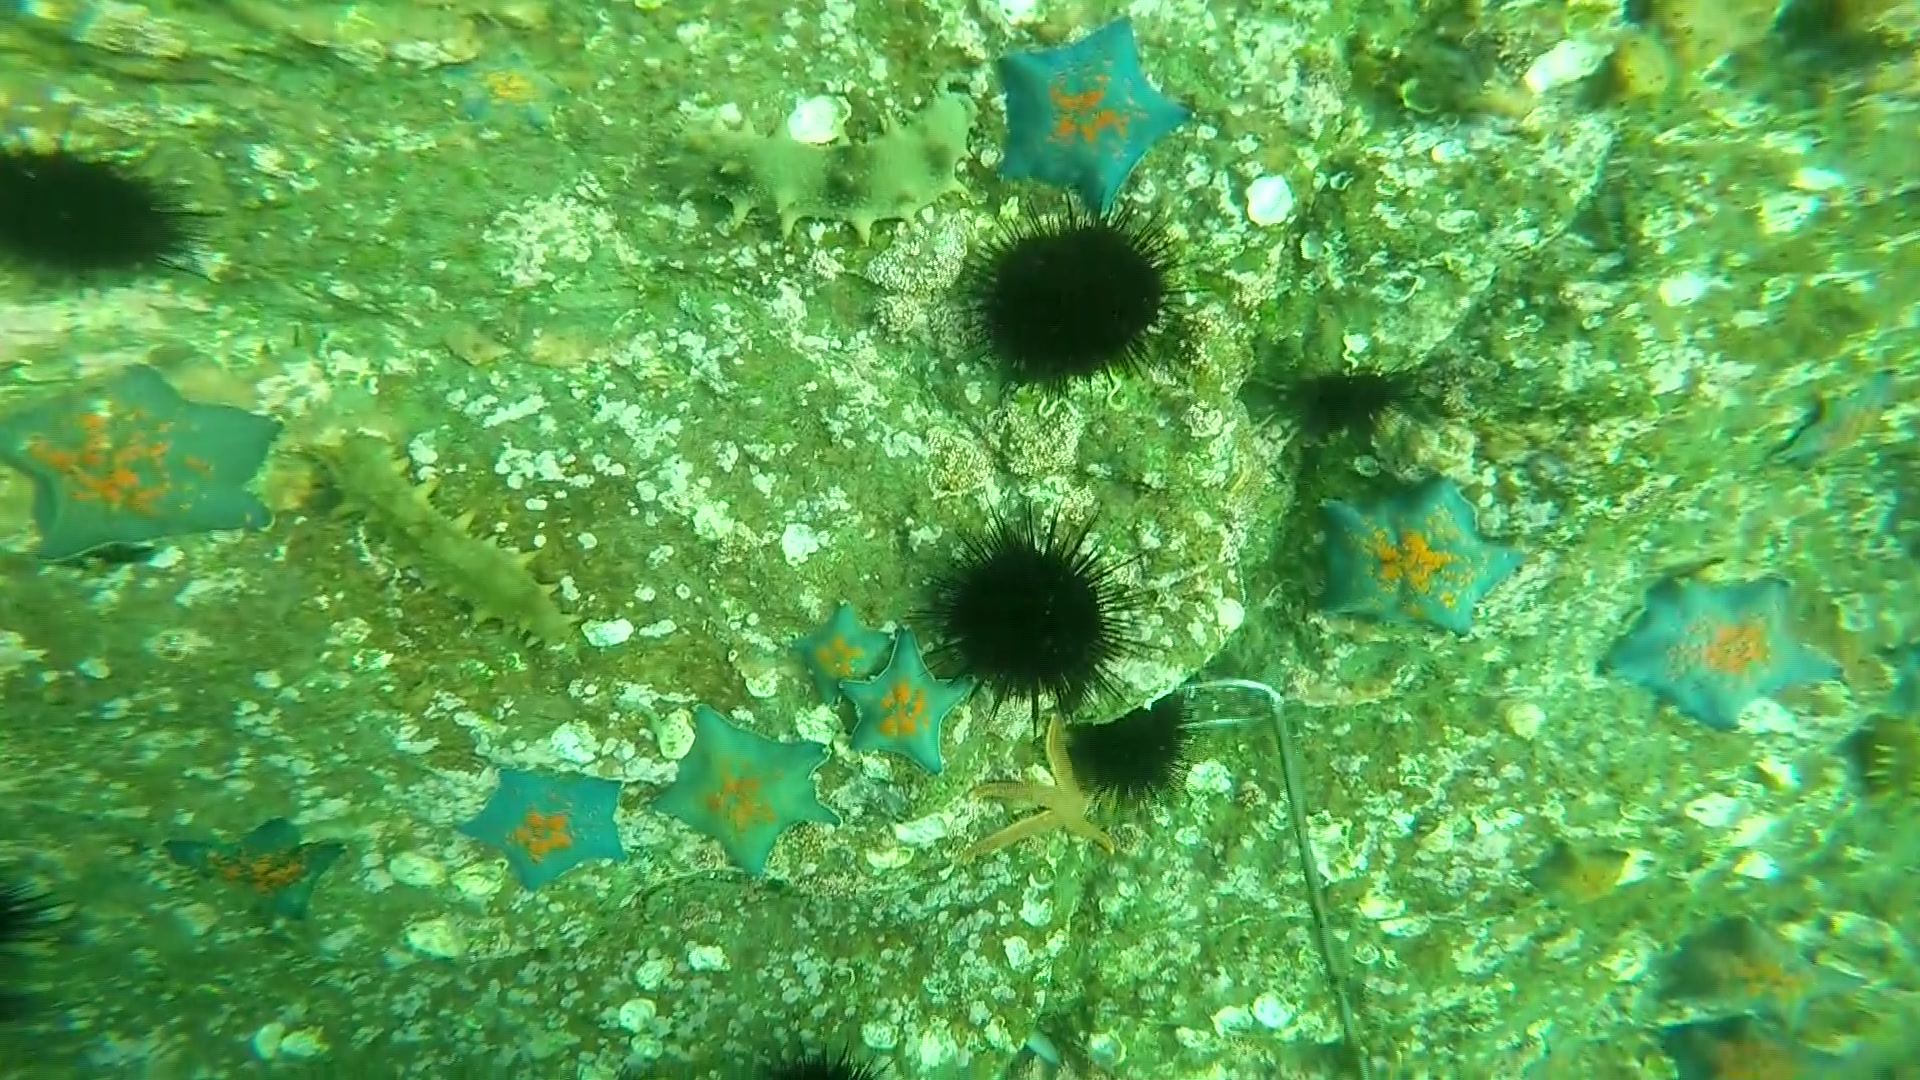echinus: (897, 495, 1159, 731), (949, 199, 1203, 400), (1, 127, 231, 303), (1055, 682, 1195, 808)
holothurian: (655, 88, 980, 240)
scallop: (297, 427, 584, 662)
starfish: (1, 356, 286, 563), (992, 12, 1203, 222), (1600, 567, 1846, 733), (1325, 476, 1526, 636), (659, 696, 837, 876), (463, 761, 634, 885), (1696, 911, 1858, 1033), (170, 816, 345, 928), (837, 634, 960, 781), (448, 38, 584, 145), (1778, 381, 1895, 485), (1519, 833, 1643, 916), (790, 597, 887, 698)
